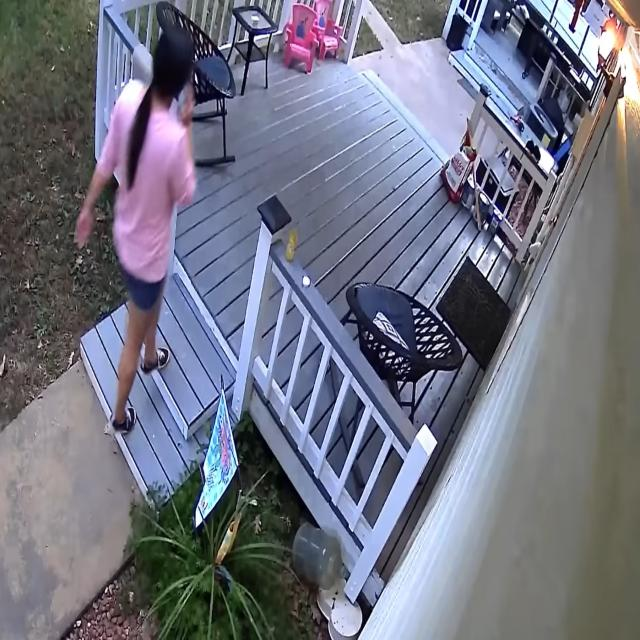standing: (75, 27, 196, 432)
